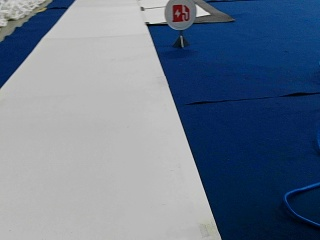battery: (163, 0, 198, 30)
